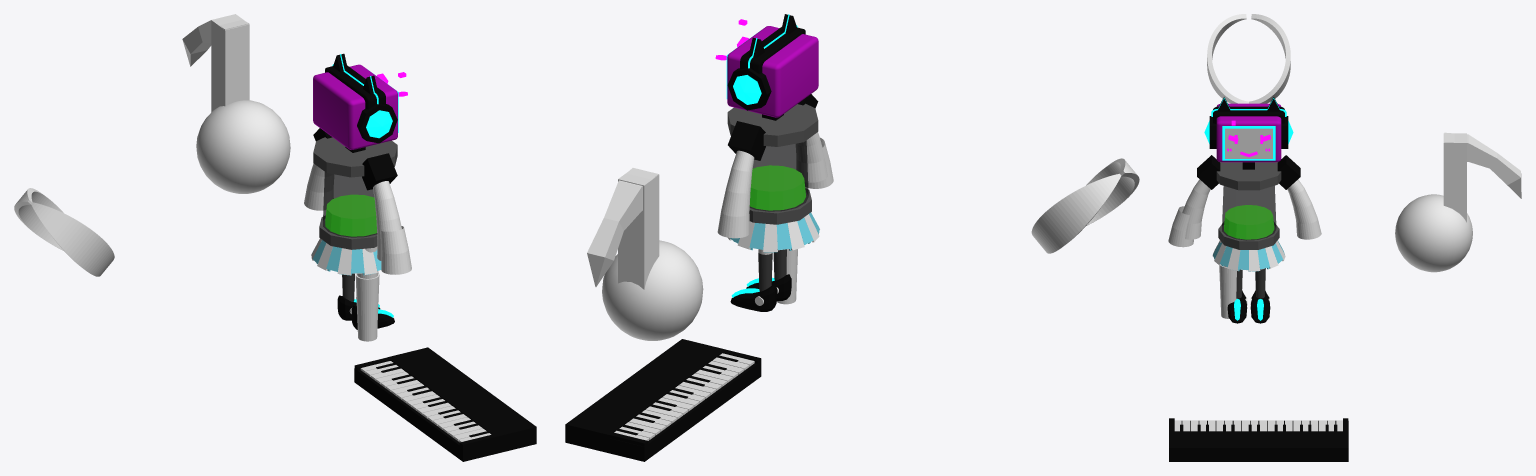
File: musicRobotStyle3.fbx
3 views of the same model, side by side, from view 1: azimuth 30°, elevation 25°; view 2: azimuth 150°, elevation 25°; view 3: azimuth 270°, elevation 25° (orthographic). The views are drawn at different scales.
Visible parts, largest first — view 1: Sphere.002, Cube.001, Sphere.001, Cube.017, Cylinder.001, Cube, Cube.002, Cylinder.002, Cylinder.010, Cylinder.015, Cylinder.012, Cylinder.011 (+8 smaller); view 2: Sphere.002, Cube.001, Sphere.001, Cube.017, Cylinder.001, Cube, Cube.002, Cylinder.002, Cylinder.010, Cylinder.013, Cylinder.011, Cylinder.020 (+7 smaller); view 3: Sphere.002, Cube.001, Cylinder.001, Sphere.001, Cube, Cylinder.002, Cylinder.010, Cube.017, Cube.023, Cylinder.013, Cylinder.011, Cylinder.020 (+9 smaller).
Part boxes in pixels (x1,y1,x2,y2): Sphere.002: (182,14,290,193); Cube.001: (389,347,536,453); Sphere.001: (14,188,114,276); Cube.017: (313,64,397,149); Cylinder.001: (323,172,376,237); Cube: (360,361,491,442); Cube.002: (354,368,495,461); Cylinder.002: (313,137,397,177); Cylinder.010: (325,194,376,236); Cylinder.015: (355,272,379,341); Cylinder.012: (381,226,411,274); Cylinder.011: (373,181,401,261); Sphere.002: (587,168,703,340); Cube.001: (565,339,725,453); Sphere.001: (1031,158,1139,253); Cube.017: (727,26,818,117); Cylinder.001: (750,140,808,211); Cube: (614,353,754,440); Cube.002: (600,363,757,461); Cylinder.002: (727,103,818,146); Cylinder.010: (749,165,805,210); Cylinder.013: (717,150,754,238); Cylinder.011: (796,132,827,182); Cylinder.020: (728,213,819,251); Sphere.002: (1395,132,1521,272); Cube.001: (1169,431,1348,461); Cylinder.001: (1222,185,1276,240); Sphere.001: (1207,14,1290,103); Cube: (1174,420,1342,431); Cylinder.002: (1216,162,1281,190); Cylinder.010: (1224,205,1274,239); Cube.017: (1216,103,1281,162); Cube.023: (1225,128,1272,158); Cylinder.013: (1287,179,1321,239); Cylinder.011: (1182,179,1210,239); Cylinder.020: (1212,240,1285,271).
Size of the model in its own units: 908 by 709 by 731.
